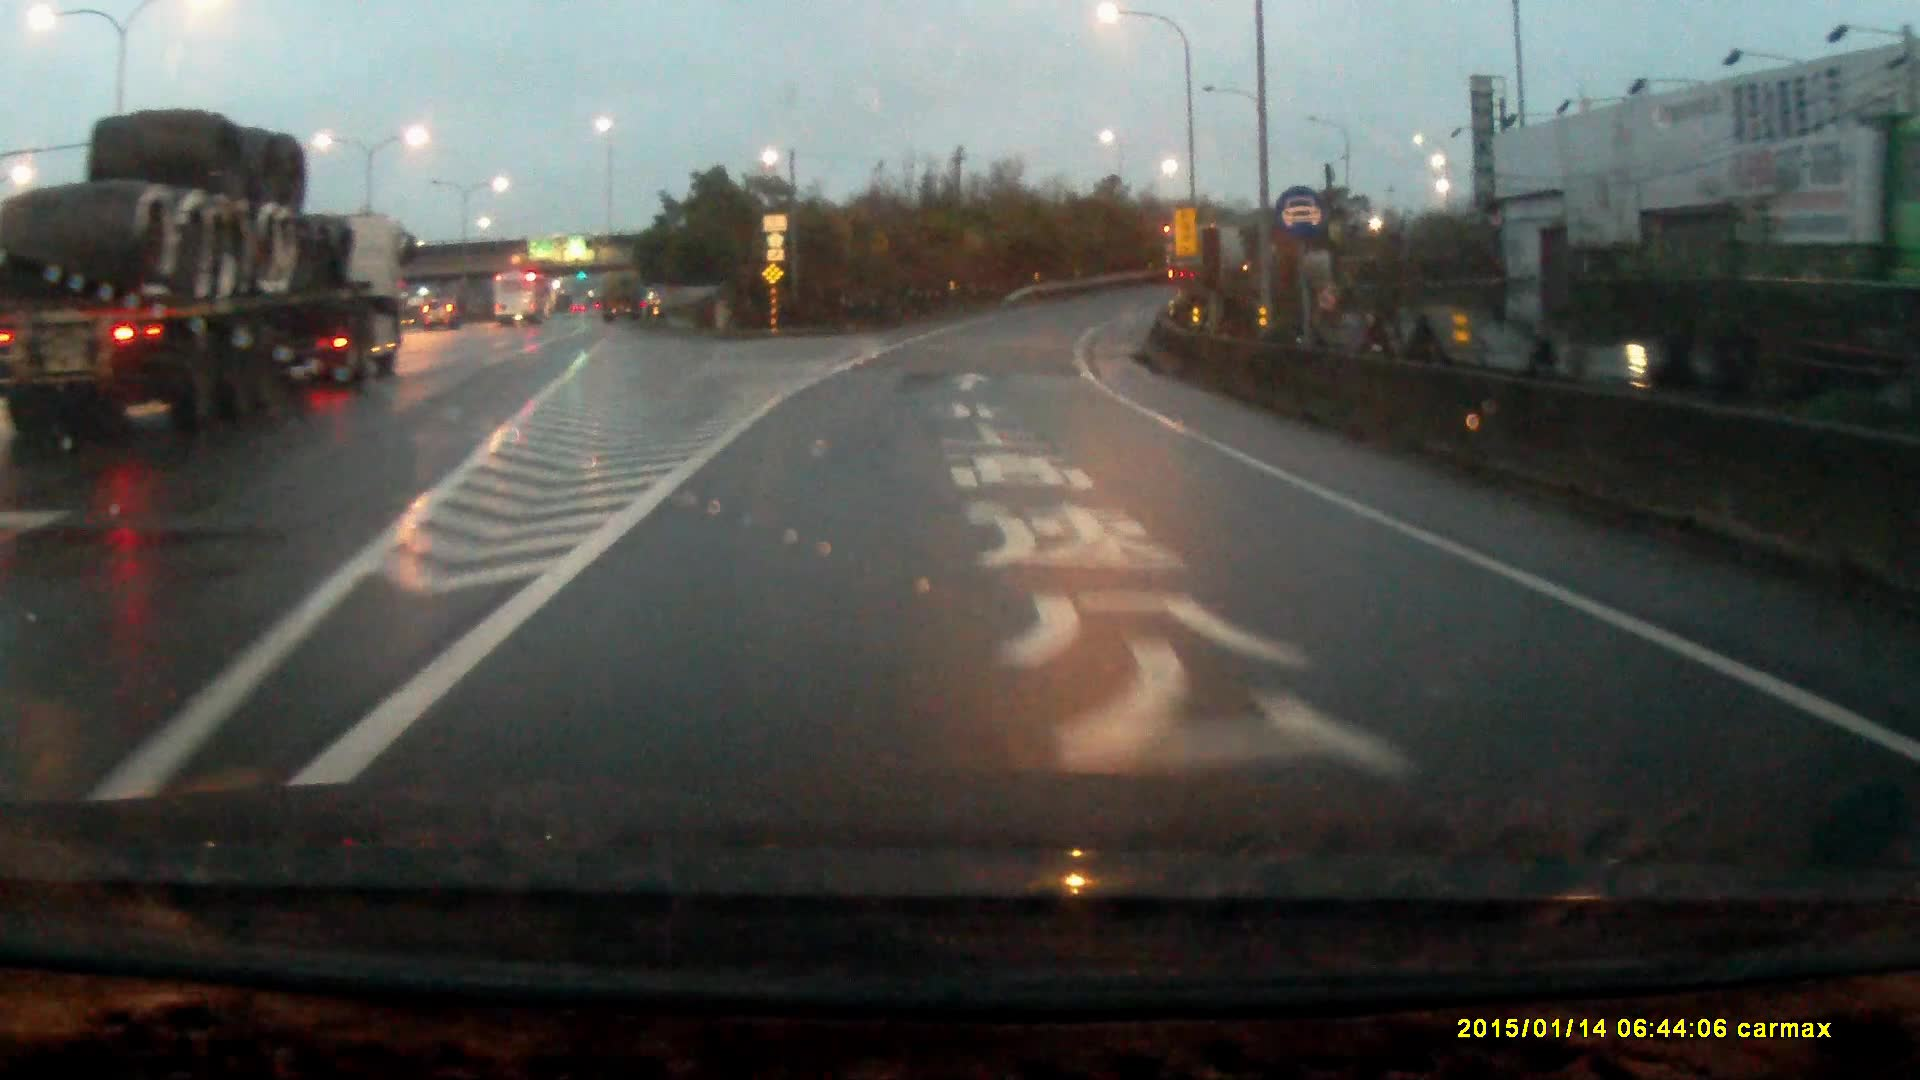vehicle: (11, 111, 405, 434), (493, 274, 553, 330), (422, 298, 462, 334)
